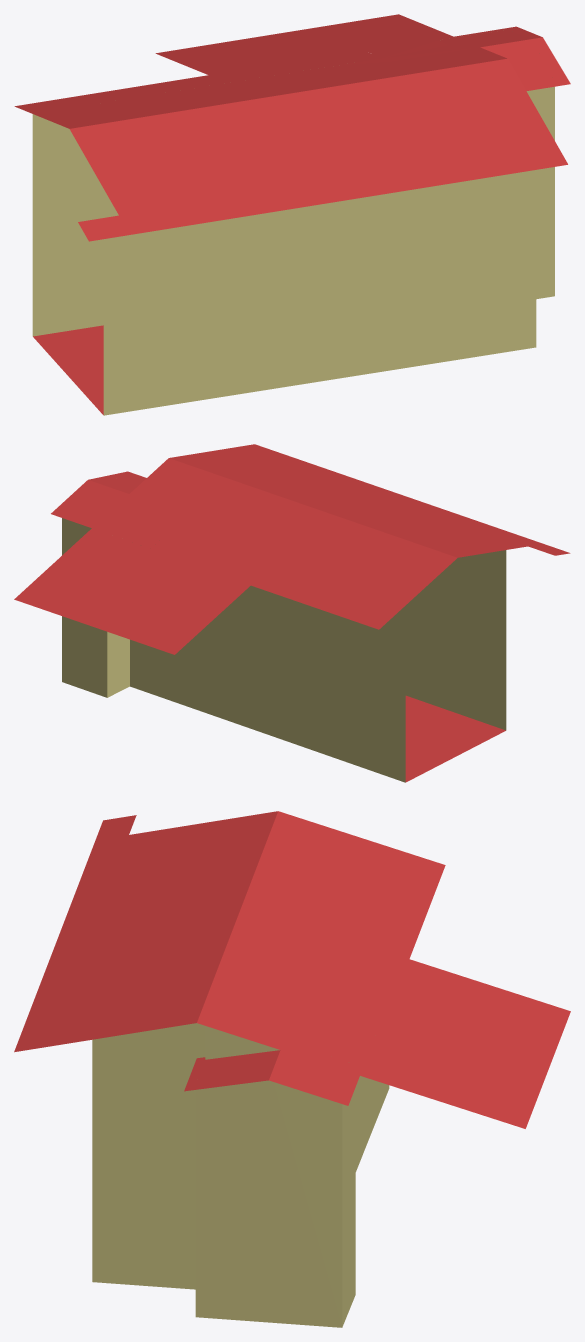
3 renders of one model, top to bottom at view 1: azimuth 30°, elevation 25°; view 2: azimuth 150°, elevation 25°; view 3: azimuth 270°, elevation 25°, orthographic. The views are drawn at different scales.
Size of the model in its own units: 18.87 by 15.54 by 8.29.
